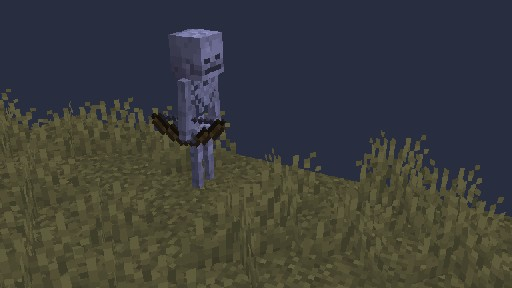skeleton: (150, 27, 226, 188)
